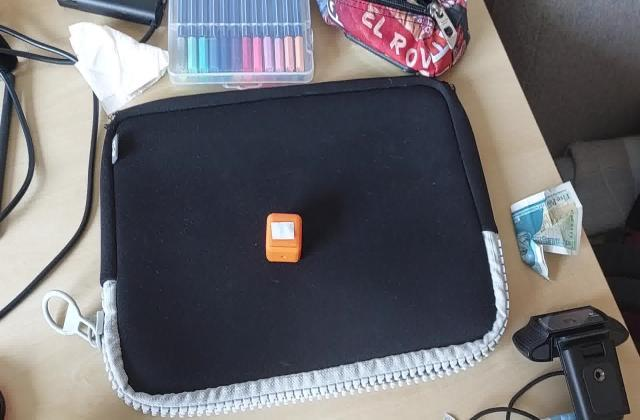sticker: (264, 212, 304, 265)
white: (268, 220, 298, 242)
